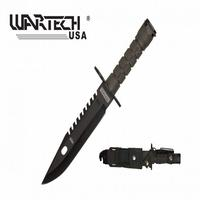knife: (39, 14, 158, 187)
